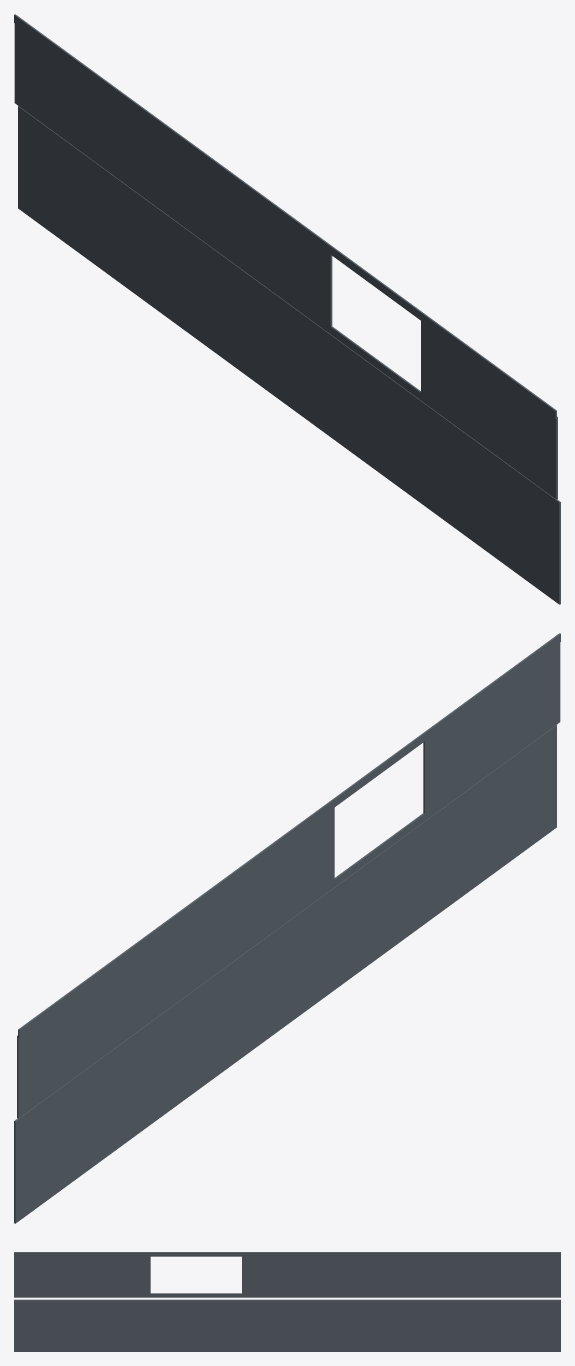
The model's file is env_fallow_mid_port.fbx.
3 renders of one model, top to bottom at view 1: azimuth 30°, elevation 25°; view 2: azimuth 150°, elevation 25°; view 3: azimuth 270°, elevation 25°, orthographic. The views are drawn at different scales.
Visible parts, largest first — view 1: env_fallow_mid_port; view 2: env_fallow_mid_port; view 3: env_fallow_mid_port.
Boxes of the visible parts, bbox=[...] form: env_fallow_mid_port: bbox=[14, 14, 560, 604]; env_fallow_mid_port: bbox=[14, 633, 560, 1223]; env_fallow_mid_port: bbox=[14, 1252, 560, 1351].
Size of the model in its own units: 140 by 4760 by 24000.
